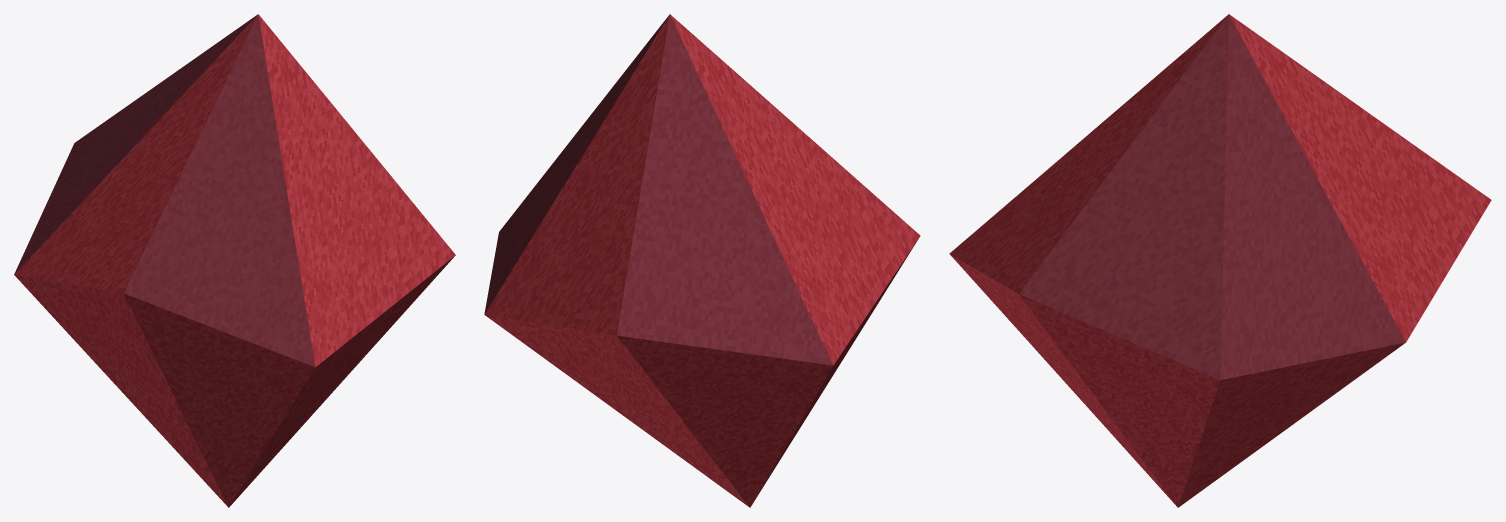
The model's file is philosophers_stone.glb.
3 renders of one model, left to right at view 1: azimuth 30°, elevation 25°; view 2: azimuth 150°, elevation 25°; view 3: azimuth 270°, elevation 25°, orthographic. The views are drawn at different scales.
Parts seen in each view (by area): view 1: upper_facet_2, upper_facet_1, lower_facet_2, upper_facet_3, lower_facet_3, upper_facet_4, lower_facet_1; view 2: upper_facet_4, upper_facet_3, upper_facet_5, lower_facet_4, lower_facet_5, upper_facet_6, lower_facet_3; view 3: upper_facet_0, upper_facet_6, upper_facet_5, lower_facet_0, upper_facet_1, lower_facet_6, lower_facet_1.
Part boxes in pixels (box(x1,y1,x2,y2)): upper_facet_2: box(123, 14, 315, 366); upper_facet_1: box(258, 14, 455, 367); lower_facet_2: box(124, 293, 315, 507); upper_facet_3: box(14, 15, 257, 293); lower_facet_3: box(14, 275, 228, 507); upper_facet_4: box(14, 14, 257, 274); lower_facet_1: box(229, 255, 455, 507); upper_facet_4: box(617, 14, 833, 365); upper_facet_3: box(670, 14, 920, 364); upper_facet_5: box(484, 14, 669, 335); lower_facet_4: box(617, 335, 832, 507); lower_facet_5: box(485, 315, 749, 507); upper_facet_6: box(484, 16, 668, 314); lower_facet_3: box(752, 239, 918, 504); upper_facet_0: box(1019, 14, 1228, 380); upper_facet_6: box(1220, 14, 1405, 379); upper_facet_5: box(1229, 14, 1491, 342); lower_facet_0: box(1019, 294, 1220, 507); upper_facet_1: box(949, 14, 1228, 293); lower_facet_6: box(1178, 342, 1405, 507); lower_facet_1: box(950, 254, 1176, 506).
Bounding box in the file's own units: 0.2769 × 0.34 × 0.3198.
Materials: 1 (1 with a texture image).
